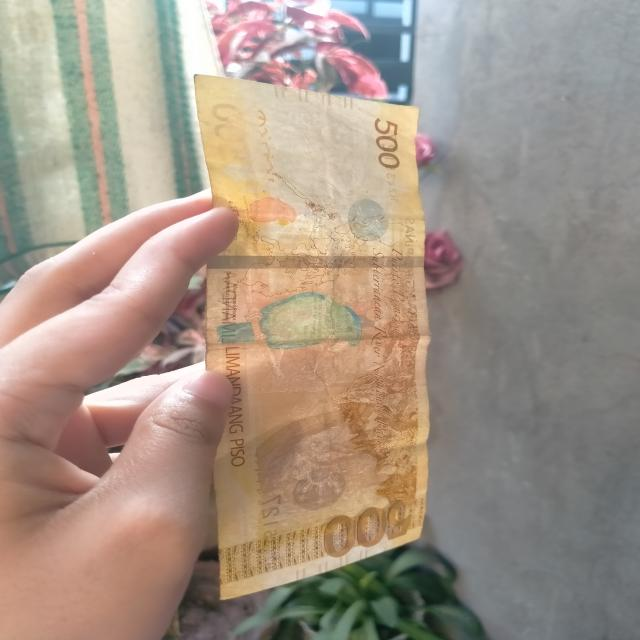security_thread: (209, 255, 425, 272)
see_through_mark: (240, 106, 281, 200)
watermark: (260, 114, 384, 192)
